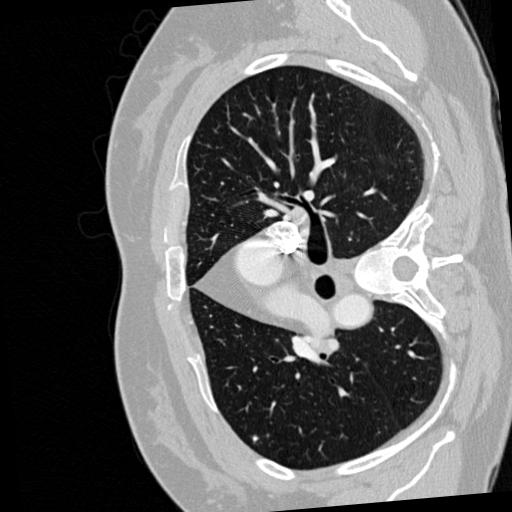nodule: (248, 432, 260, 444)
